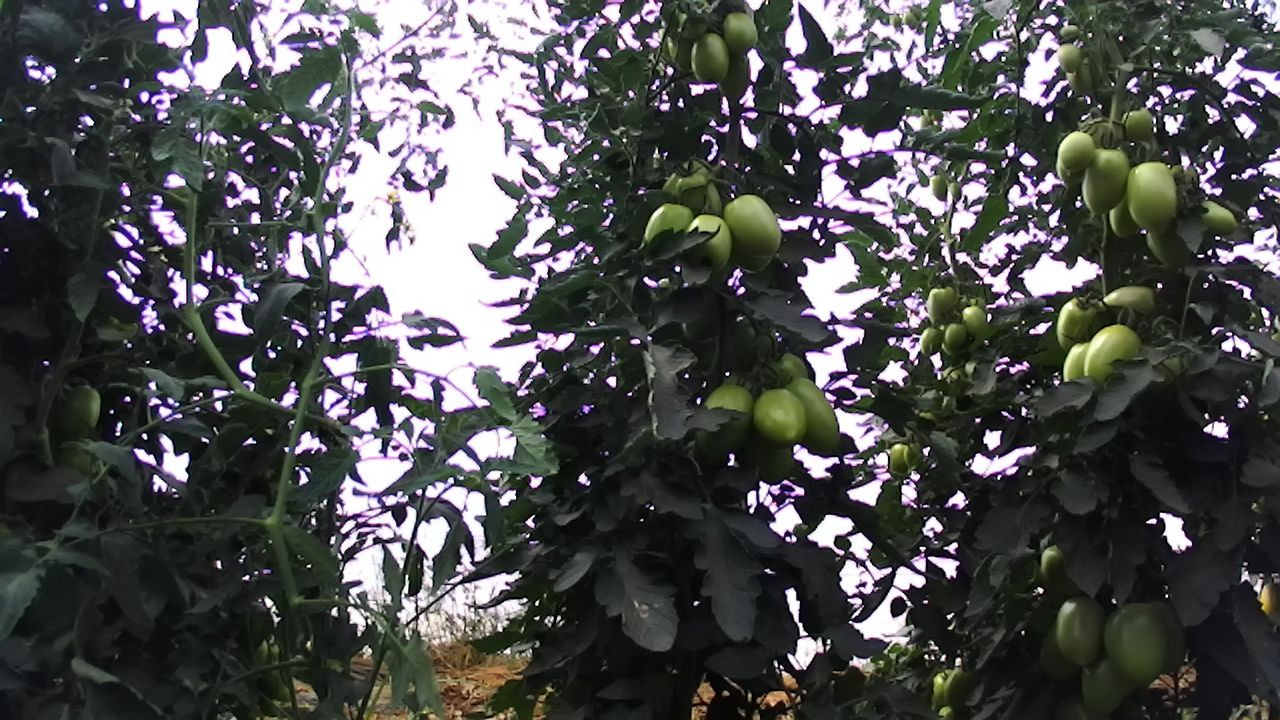tomato: (1099, 600, 1172, 687), (692, 381, 756, 462), (780, 375, 844, 453), (1080, 319, 1146, 391), (718, 191, 784, 258), (1126, 157, 1180, 237), (1054, 592, 1106, 670), (1079, 143, 1131, 218), (1077, 652, 1136, 717), (750, 384, 808, 447), (1054, 293, 1108, 352), (53, 382, 107, 440), (640, 199, 697, 251), (687, 30, 734, 86), (1193, 196, 1243, 237), (1057, 126, 1096, 177), (721, 12, 761, 52), (1118, 103, 1156, 143), (925, 282, 956, 326), (1053, 41, 1086, 76), (958, 302, 991, 336), (917, 324, 944, 360), (940, 321, 971, 351)
